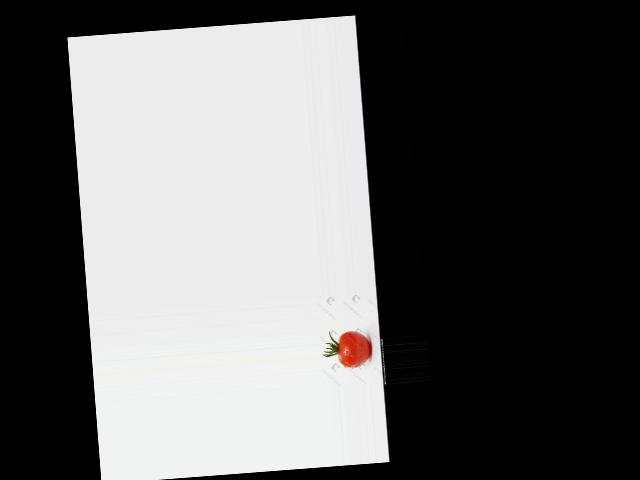tomato: (337, 329, 371, 368)
